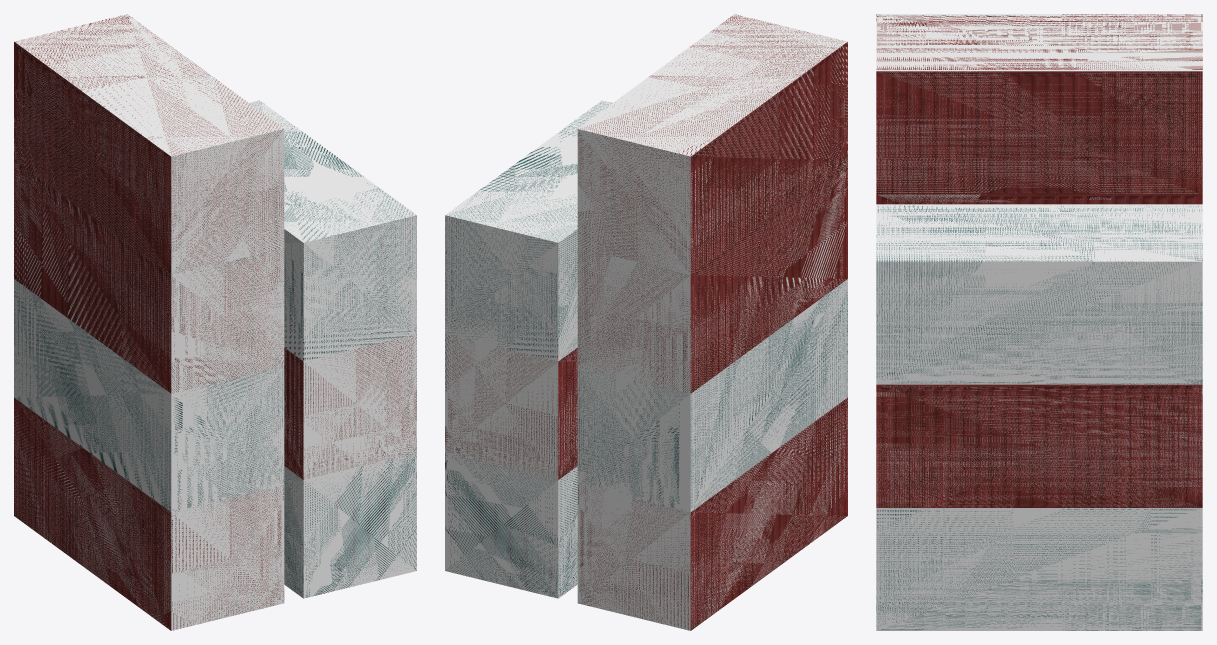
The model's file is container-multi-stack.dae.
The picture shows the model from 3 angles, left to right: view 1: azimuth 30°, elevation 25°; view 2: azimuth 150°, elevation 25°; view 3: azimuth 270°, elevation 25°; orthographic projection. The views are drawn at different scales.
Visible parts, largest first — view 1: Container_Rot (×9), Container_Blau (×7); view 2: Container_Rot (×9), Container_Blau (×7); view 3: Container_Rot (×4), Container_Blau (×3).
Boxes of the visible parts, x1=… form: Container_Rot (×9): x1=14, y1=14, x2=416, y2=630; Container_Blau (×7): x1=14, y1=100, x2=416, y2=598; Container_Rot (×9): x1=445, y1=14, x2=847, y2=630; Container_Blau (×7): x1=445, y1=100, x2=847, y2=598; Container_Rot (×4): x1=876, y1=14, x2=1202, y2=507; Container_Blau (×3): x1=876, y1=204, x2=1202, y2=630.
Size of the model in its own units: 213 by 236 by 394.
Materials: 8 (7 with a texture image).
